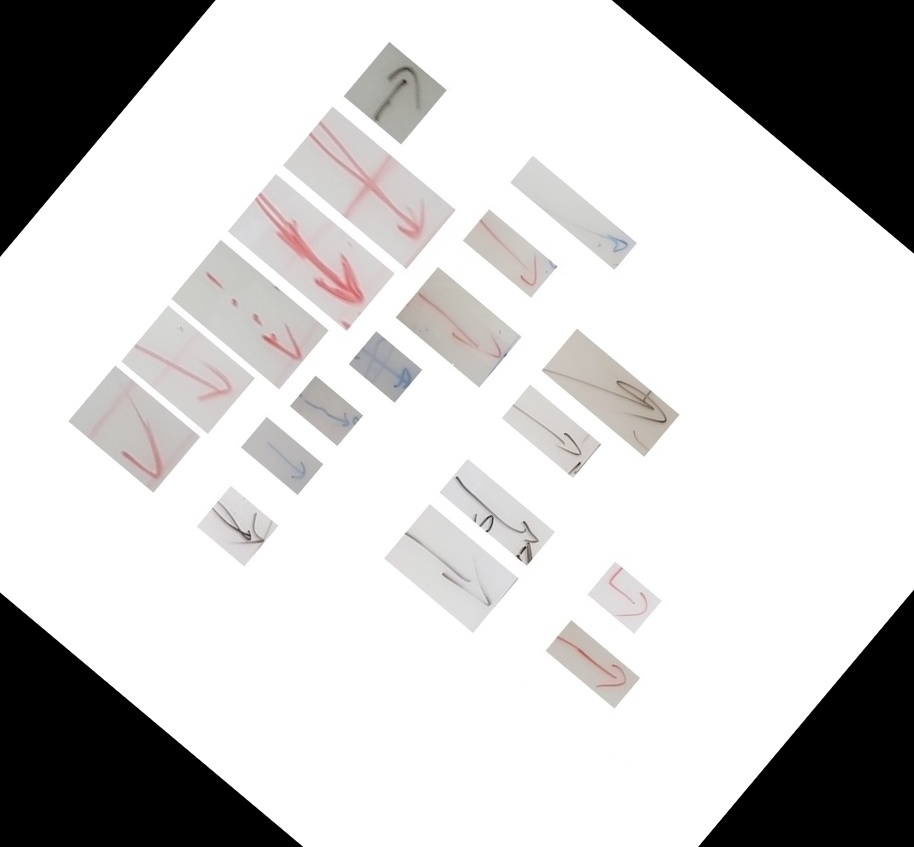arrow: (97, 408, 221, 522), (325, 164, 446, 266), (354, 70, 467, 175), (207, 514, 297, 598), (289, 254, 380, 331), (588, 393, 675, 465), (428, 563, 509, 630), (239, 322, 319, 389), (476, 512, 553, 576), (438, 329, 514, 393), (605, 598, 678, 664), (169, 371, 242, 433), (491, 255, 558, 311), (380, 361, 423, 438), (536, 435, 596, 486), (579, 671, 637, 720), (585, 241, 637, 285), (272, 468, 322, 510), (318, 422, 362, 459)
